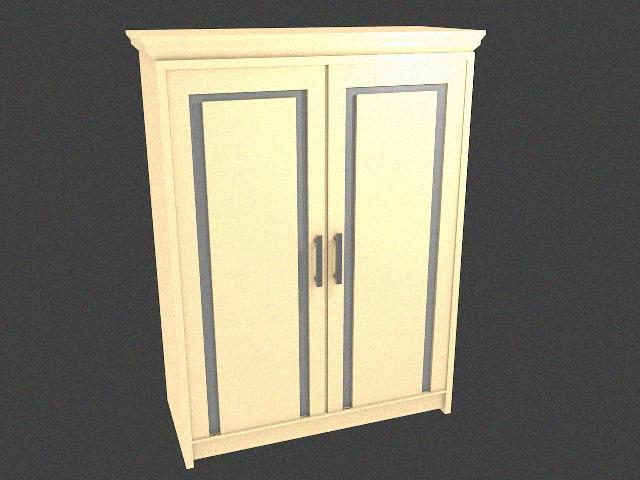cabinet_door: (179, 68, 325, 426), (328, 63, 456, 402)
handle: (329, 229, 346, 286), (309, 232, 324, 290)
